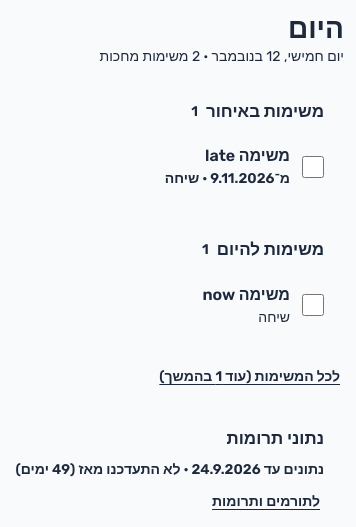
Test case: MgmtTodayPage › drops the counters as soon as a task is ticked, and restores them on undo
This screenshot has width=356, height=527.
Expected: the text "משימה late" is shown, [205,146,290,165]
Click the checkbox named "סימון כבוצע: משימה late" at (313, 167), box [302,156,324,178]
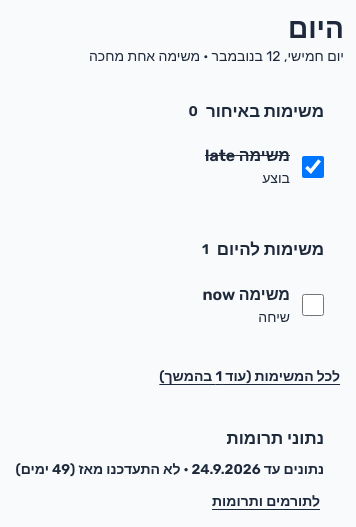
Expected: the text "משימה אחת מחכה" is shown, [89,48,212,65]
Expected: the text "0" is shown, [189,101,198,122]
Click the checkbox named "סימון כבוצע: משימה late" at (313, 167), box [302,156,324,178]
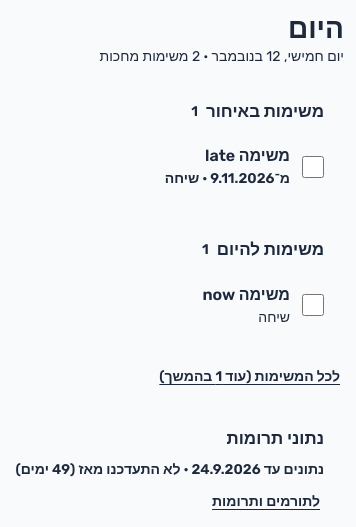
Expected: the text "2 משימות מחכות" is shown, [100,48,212,65]
